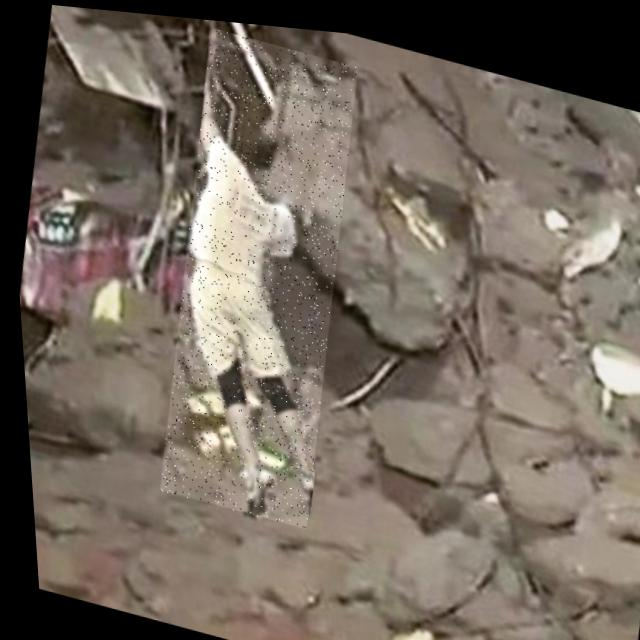Person in Rubble: (128, 18, 382, 531)
